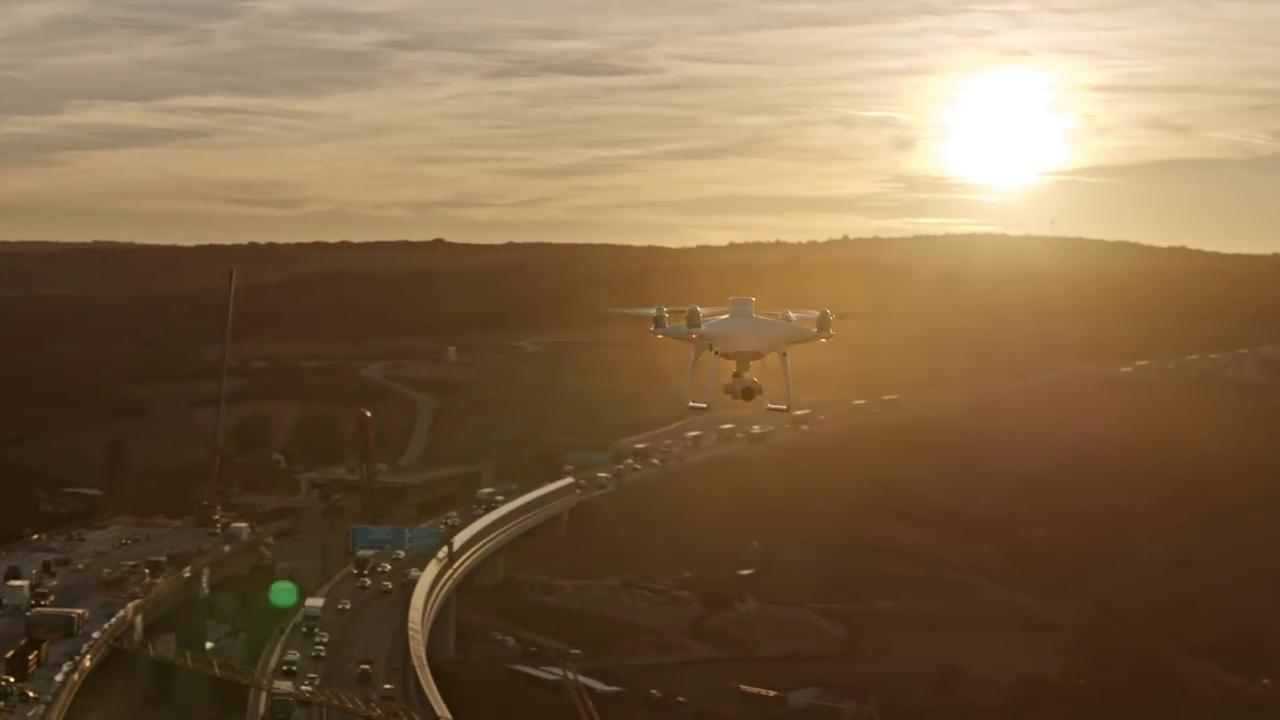drone: (604, 288, 850, 417)
